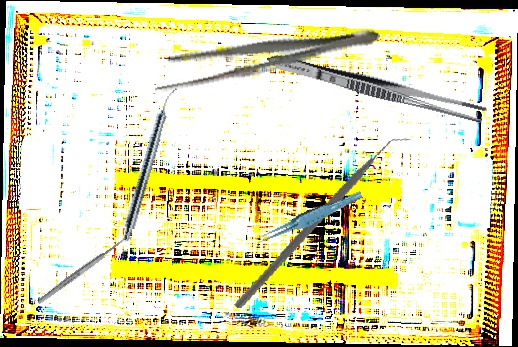Chopper: (233, 112, 415, 335)
Dressing Forceps: (149, 16, 384, 97), (264, 49, 490, 126)
Handpiece: (119, 84, 179, 244)
Surgical Spoon: (36, 232, 133, 306)
Tissue Forceps: (252, 190, 366, 245)
